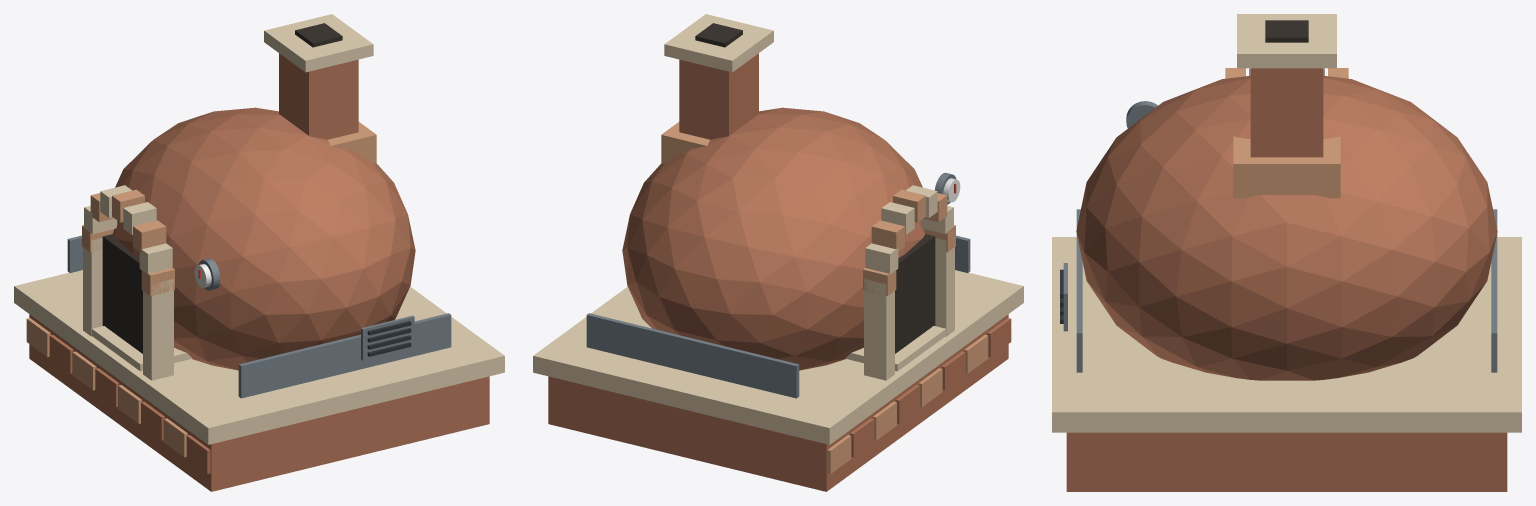
Rendered from WoodFiredOven.glb.
3 views of the same model, side by side, from view 1: azimuth 30°, elevation 25°; view 2: azimuth 150°, elevation 25°; view 3: azimuth 270°, elevation 25° (orthographic). The views are drawn at different scales.
Parts seen in each view (by area): view 1: refractory_dome, stone_hearth, base_plinth, side_iron_band_1.2, chimney_stack, oven_mouth_dark, chimney_cap, mouth_right_jamb, mouth_left_jamb, oven_floor, side_vent, chimney_collar (+15 smaller); view 2: refractory_dome, stone_hearth, base_plinth, side_iron_band_-1.2, chimney_stack, oven_mouth_dark, chimney_cap, mouth_left_jamb, mouth_right_jamb, oven_floor, chimney_collar, arch_brick_7 (+14 smaller); view 3: refractory_dome, stone_hearth, base_plinth, chimney_stack, chimney_collar, chimney_cap, chimney_opening, side_iron_band_1.2, side_iron_band_-1.2.
Part boxes in pixels (bbox=[...]): refractory_dome: bbox=[113, 107, 415, 370]; stone_hearth: bbox=[14, 270, 504, 444]; base_plinth: bbox=[29, 314, 489, 491]; side_iron_band_1.2: bbox=[238, 313, 451, 398]; chimney_stack: bbox=[279, 53, 358, 139]; oven_mouth_dark: bbox=[102, 234, 142, 353]; chimney_cap: bbox=[264, 14, 373, 72]; mouth_right_jamb: bbox=[143, 279, 173, 380]; mouth_left_jamb: bbox=[83, 238, 102, 336]; oven_floor: bbox=[92, 326, 192, 371]; side_vent: bbox=[361, 315, 414, 360]; chimney_collar: bbox=[328, 122, 376, 163]; refractory_dome: bbox=[622, 107, 924, 370]; stone_hearth: bbox=[533, 270, 1023, 444]; base_plinth: bbox=[548, 314, 1008, 491]; side_iron_band_-1.2: bbox=[586, 313, 799, 398]; chimney_stack: bbox=[679, 53, 758, 139]; oven_mouth_dark: bbox=[895, 234, 935, 353]; chimney_cap: bbox=[664, 14, 773, 72]; mouth_left_jamb: bbox=[864, 279, 894, 380]; mouth_right_jamb: bbox=[935, 238, 954, 336]; oven_floor: bbox=[845, 326, 945, 371]; chimney_collar: bbox=[661, 122, 709, 163]; arch_brick_7: bbox=[865, 243, 898, 274]; refractory_dome: bbox=[1076, 75, 1497, 380]; stone_hearth: bbox=[1052, 237, 1521, 432]; base_plinth: bbox=[1066, 432, 1507, 491]; chimney_stack: bbox=[1250, 68, 1323, 157]; chimney_collar: bbox=[1233, 136, 1340, 198]; chimney_cap: bbox=[1237, 14, 1336, 68]; chimney_opening: bbox=[1265, 20, 1308, 42]; side_iron_band_1.2: bbox=[1076, 209, 1082, 372]; side_iron_band_-1.2: bbox=[1491, 209, 1497, 372].
Bounding box in the file's own units: 2.4 × 2.66 × 2.72.
